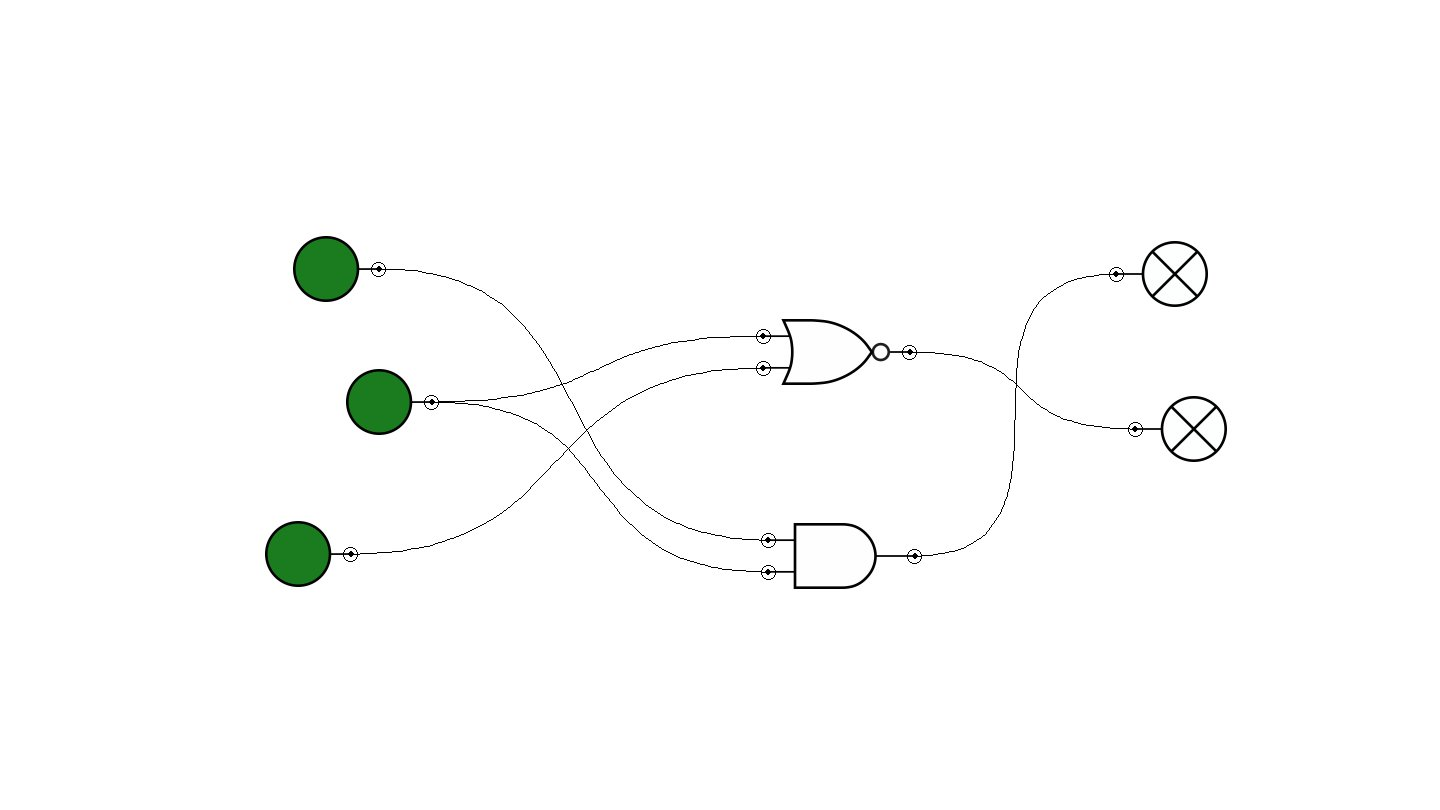and: (761, 523, 922, 589)
bulb: (1128, 396, 1227, 462), (1109, 241, 1208, 307)
nor: (756, 319, 917, 385)
switch_True: (346, 369, 439, 435), (293, 236, 386, 302), (265, 521, 358, 587)
